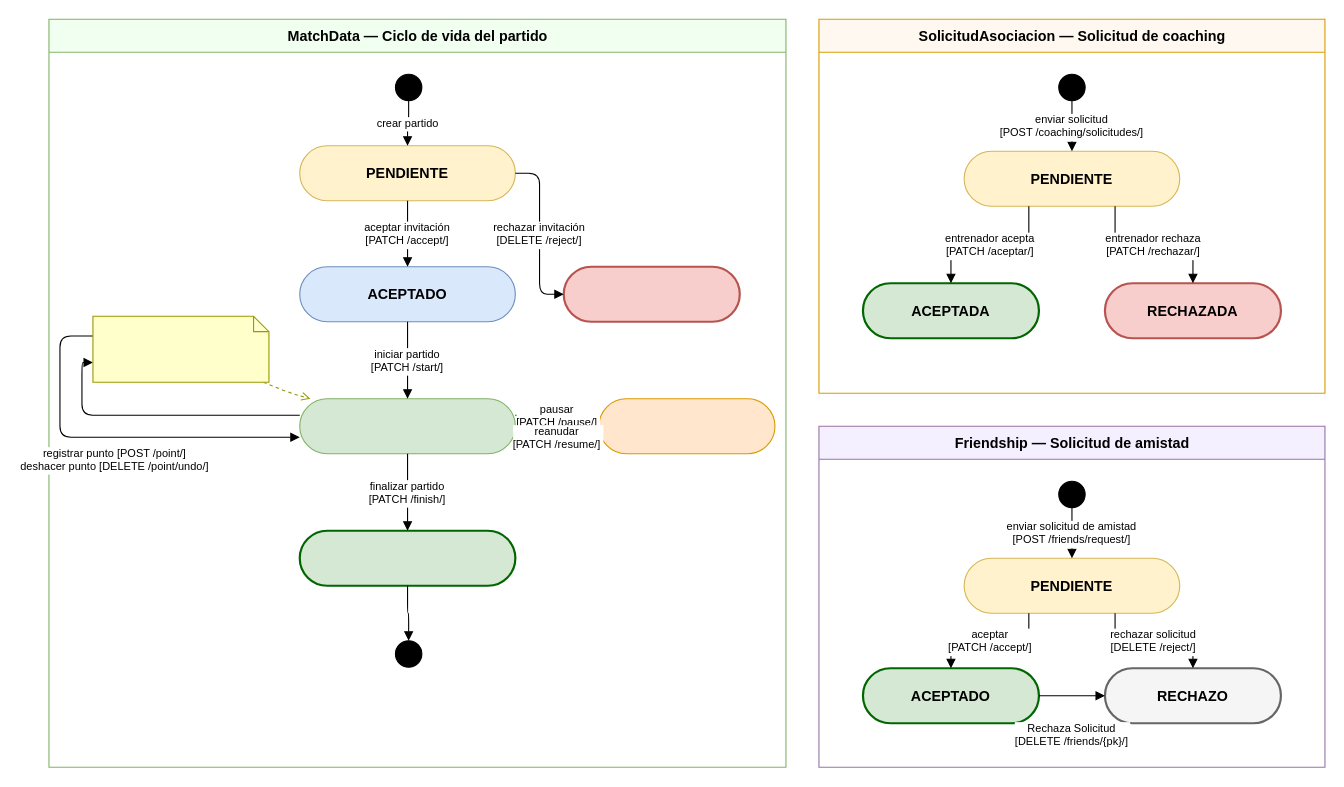
The diagram is 1344 pixels wide and 787 high, and some of its shapes have lost their labels. Each missing label, with the centre of its shape:
FINALIZADA: the point at 407,557
INICIADO: the point at 407,426
PAUSADO: the point at 686,426
RECHAZADO: the point at 651,293
⚠ Cierre inesperado del navegador → [GET /recovery/] restaura el estado: the point at 180,348
